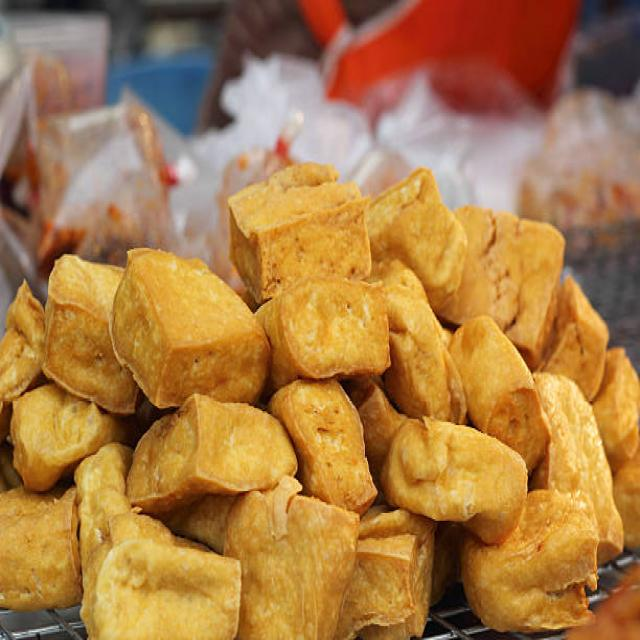Tofu Block: (110, 242, 242, 408), (229, 163, 373, 304), (382, 413, 528, 547), (238, 480, 356, 640), (538, 369, 628, 574), (468, 202, 569, 354), (266, 266, 392, 380)
